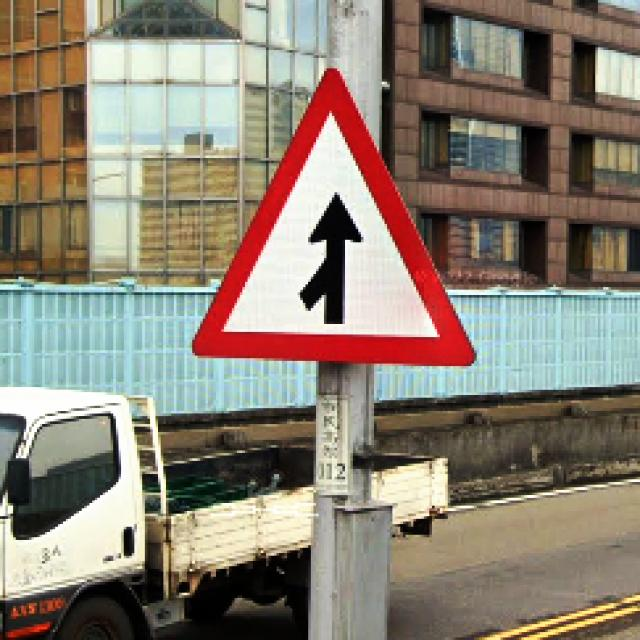leftmerge: (192, 68, 474, 369)
